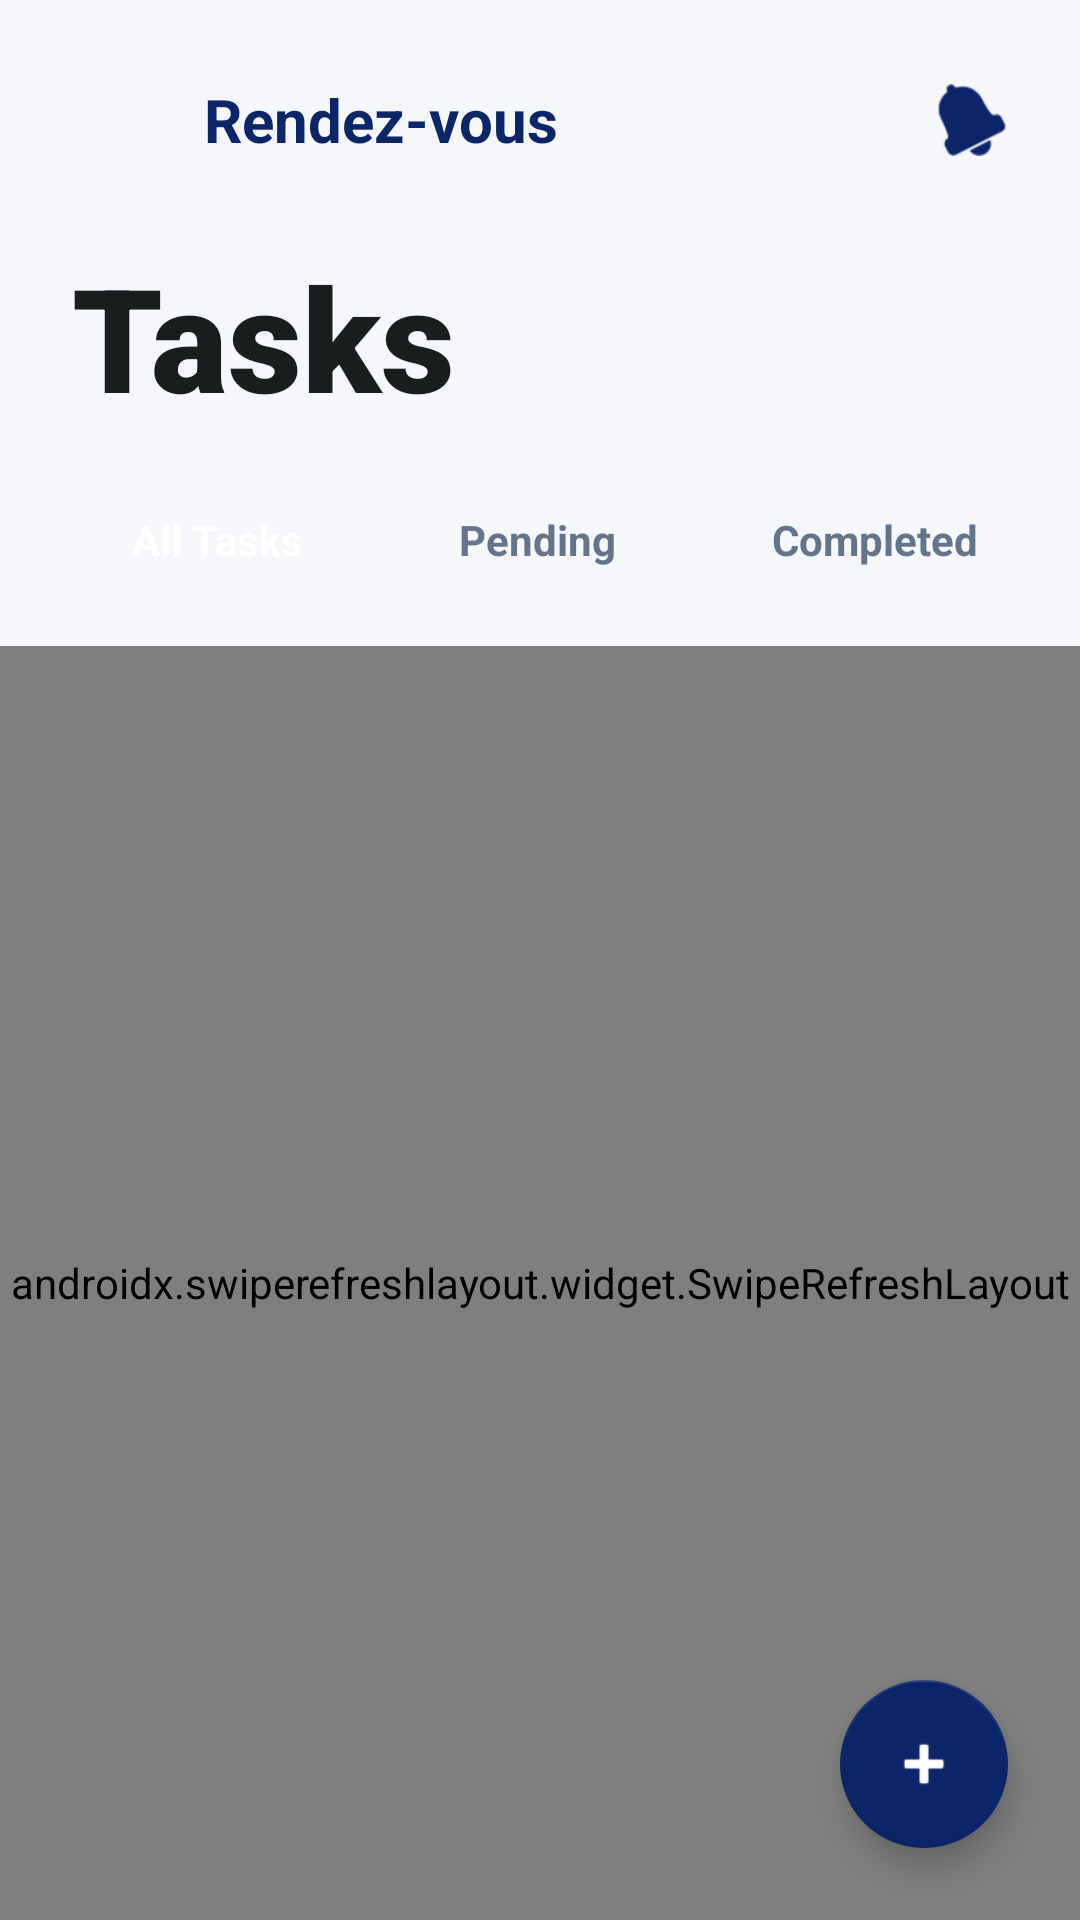

Icons on this 1080px x 1920px Android screen, each with the point to tap as (x,y):
add: (924,1764)
popup reminder: (972,120)
